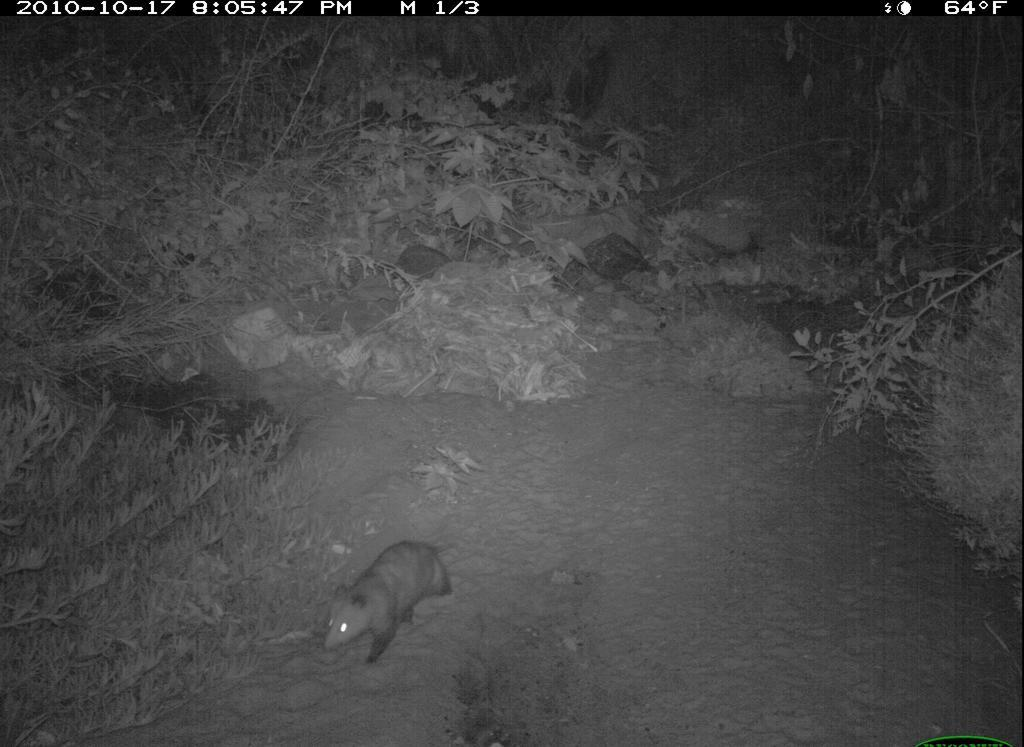opossum: (306, 538, 454, 671)
